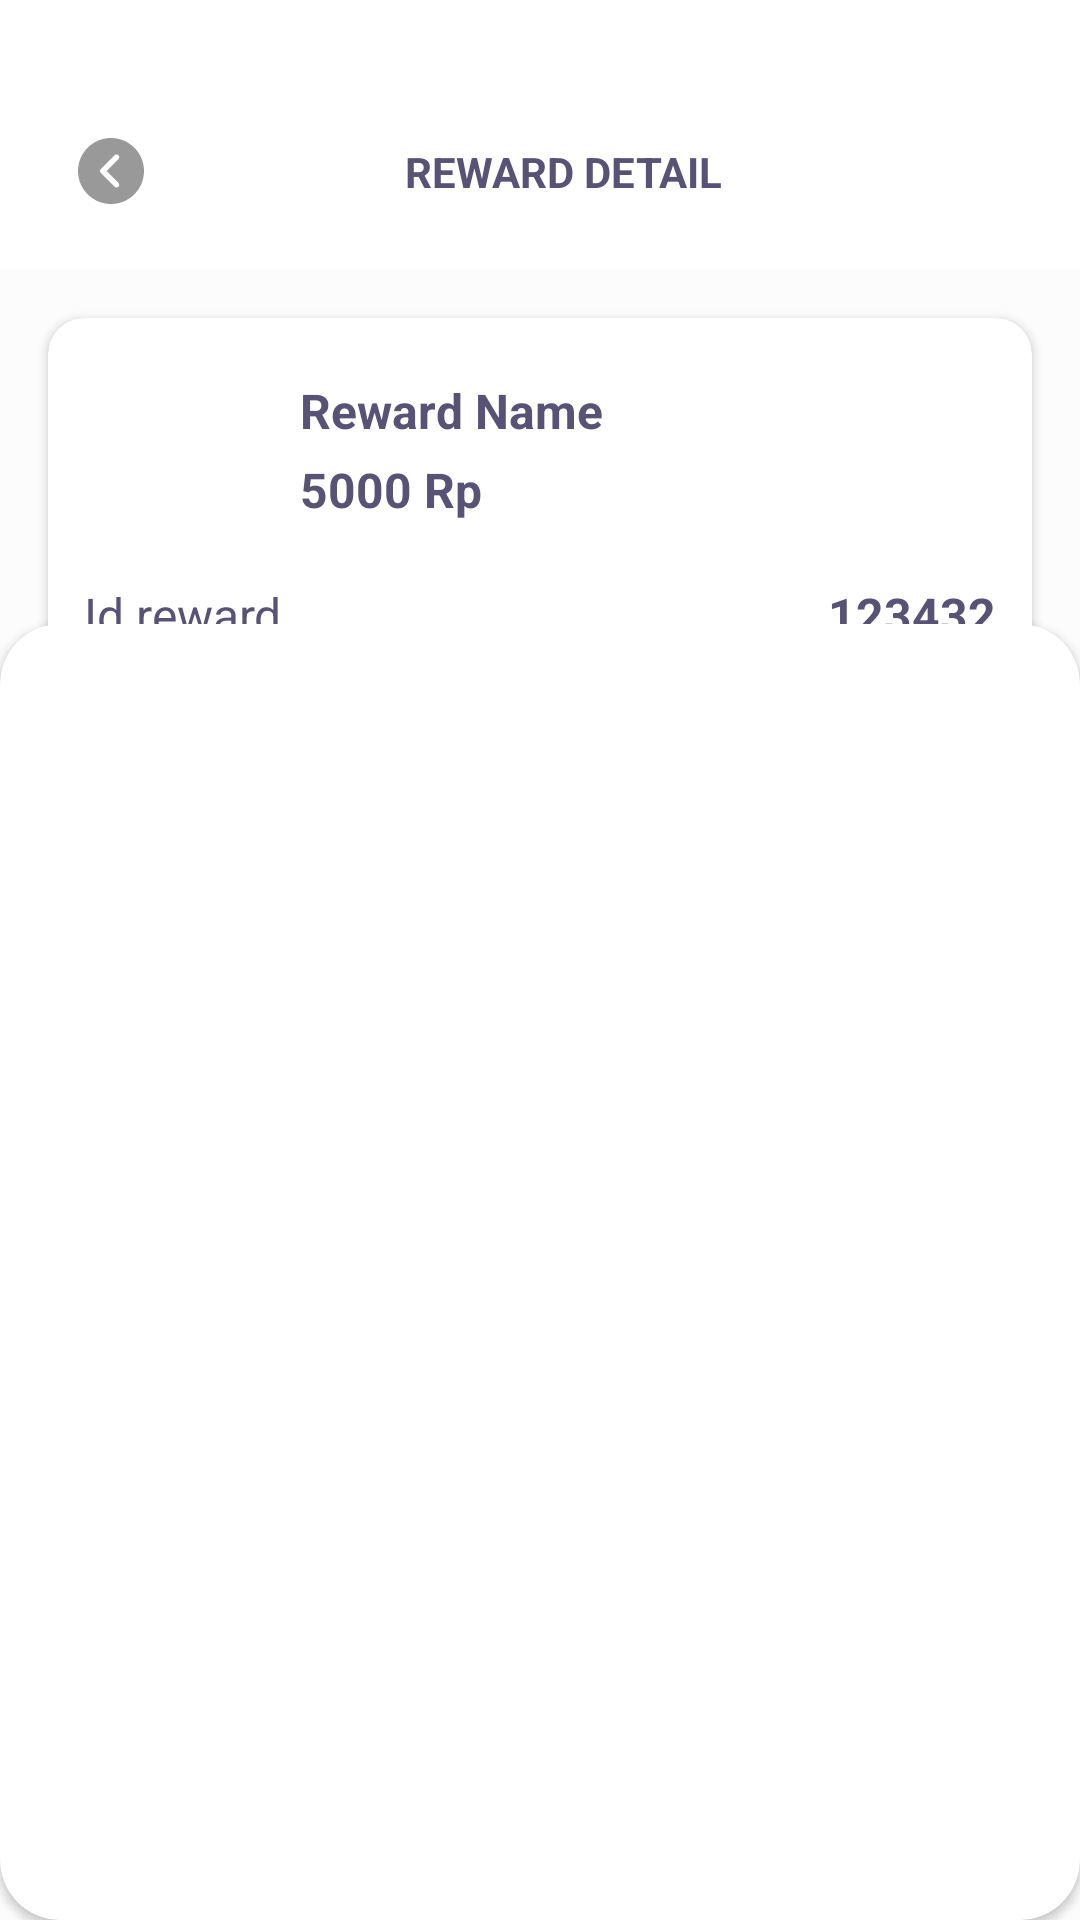

Icons on this 1080px×1920px Android screen, each with its box as {"left": x1, "top": y1, "right": x2, "bottom": y2}:
previous: {"left": 78, "top": 138, "right": 144, "bottom": 204}
